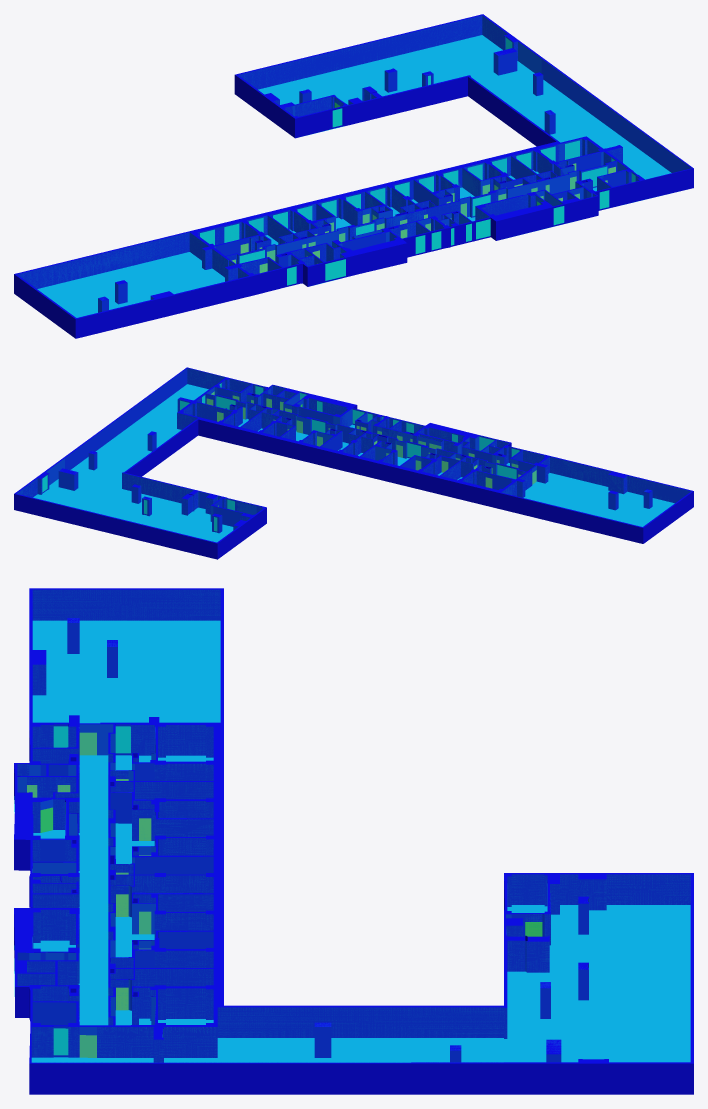
Rendered from floor_6.gltf.
3 renders of one model, top to bottom at view 1: azimuth 30°, elevation 25°; view 2: azimuth 150°, elevation 25°; view 3: azimuth 270°, elevation 25°, orthographic. The views are drawn at different scales.
Parts seen in each view (by area): view 1: group_solid_mesh, Room_6_57197_-38895, group_ground_mesh, Room_6_-14438_-8310, group_windows_mesh, Room_6_32073_-4674, Room_6_23706_-10746, Room_6_38649_-10709, group_door_mesh, Room_6_6658_-10351, Room_6_55718_-10355, Room_6_58597_-13449 (+5 smaller); view 2: group_solid_mesh, Room_6_57197_-38895, group_ground_mesh, Room_6_-14438_-8310, Room_6_32073_-4674, group_windows_mesh, Room_6_38649_-10709, Room_6_23706_-10746, group_door_mesh, Room_6_6658_-10351, Room_6_55718_-10355, Room_6_3776_-13449 (+6 smaller); view 3: group_solid_mesh, group_ground_mesh, Room_6_57197_-38895, Room_6_-14438_-8310, Room_6_32073_-4674, Room_6_38649_-10709, Room_6_23706_-10746, Room_6_6658_-10351, Room_6_55718_-10355, group_door_mesh, Room_6_3776_-13449, Room_6_58597_-13449 (+14 smaller).
Boxes of the visible parts, x1,y1,x2,y2 form: group_solid_mesh: (14,14,693,338); Room_6_57197_-38895: (239,15,690,179); group_ground_mesh: (37,35,671,317); Room_6_-14438_-8310: (18,232,248,317); group_windows_mesh: (200,38,635,285); Room_6_32073_-4674: (227,161,627,266); Room_6_23706_-10746: (310,186,413,234); Room_6_38649_-10709: (394,168,527,205); group_door_mesh: (231,103,615,273); Room_6_6658_-10351: (214,215,291,255); Room_6_55718_-10355: (514,151,615,175); Room_6_58597_-13449: (539,139,598,161); group_solid_mesh: (14,367,693,559); Room_6_57197_-38895: (17,368,249,541); group_ground_mesh: (33,384,674,542); Room_6_-14438_-8310: (502,457,690,526); Room_6_32073_-4674: (207,385,534,470); group_windows_mesh: (42,383,519,531); Room_6_38649_-10709: (275,411,359,450); Room_6_23706_-10746: (343,436,454,465); group_door_mesh: (206,391,536,506); Room_6_6658_-10351: (441,459,525,479); Room_6_55718_-10355: (197,394,259,426); Room_6_3776_-13449: (463,471,511,489); group_solid_mesh: (14,588,693,1094); group_ground_mesh: (14,620,690,1062); Room_6_57197_-38895: (32,874,690,1062); Room_6_-14438_-8310: (33,590,220,722); Room_6_32073_-4674: (33,724,112,1024); Room_6_38649_-10709: (110,875,213,957); Room_6_23706_-10746: (110,793,213,873); Room_6_6658_-10351: (110,725,213,780); Room_6_55718_-10355: (110,969,213,1024); group_door_mesh: (27,732,542,1057); Room_6_3776_-13449: (158,725,213,761); Room_6_58597_-13449: (158,988,213,1024).
Size of the model in its own units: 99099 by 3000 by 59899.
